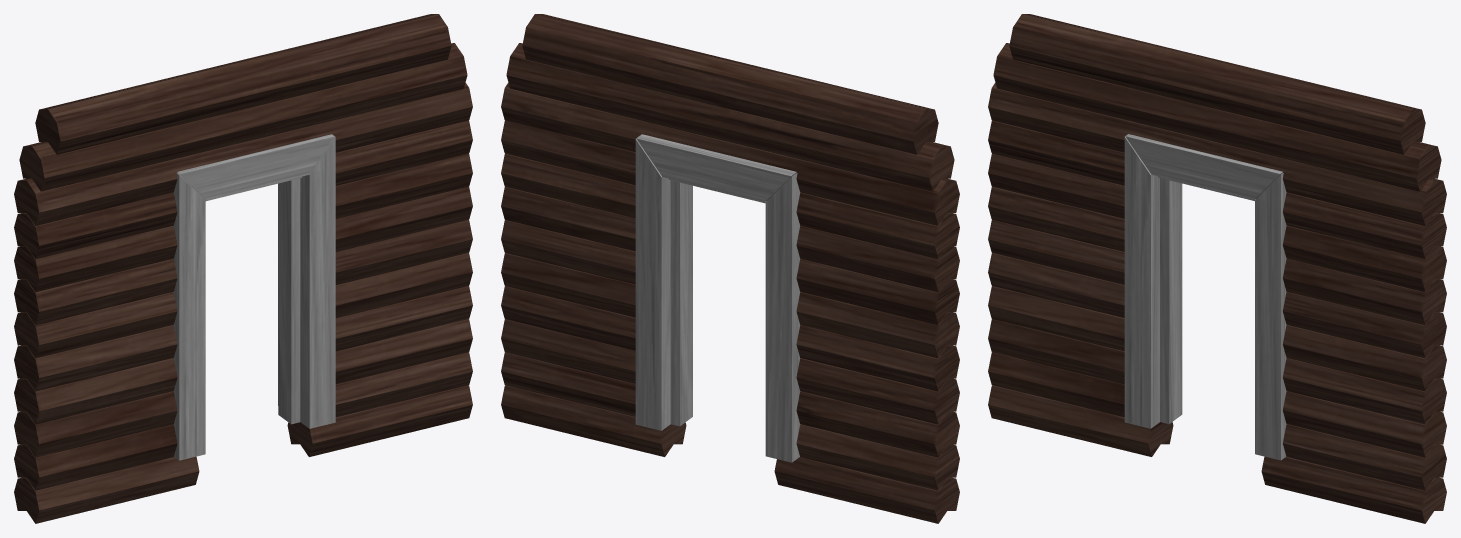
The model's file is kapılıduvarrrrrrr.fbx.
3 renders of one model, left to right at view 1: azimuth 30°, elevation 25°; view 2: azimuth 150°, elevation 25°; view 3: azimuth 330°, elevation 25°, orthographic.
Parts seen in each view (by area): view 1: Wall_Narrow_01_b; view 2: Wall_Narrow_01_b; view 3: Wall_Narrow_01_b.
Part boxes in pixels (bbox=[...]): Wall_Narrow_01_b: bbox=[14, 14, 472, 523]; Wall_Narrow_01_b: bbox=[501, 14, 959, 523]; Wall_Narrow_01_b: bbox=[988, 14, 1446, 523].
Bounding box in the file's own units: 260 × 231 × 32.7.
